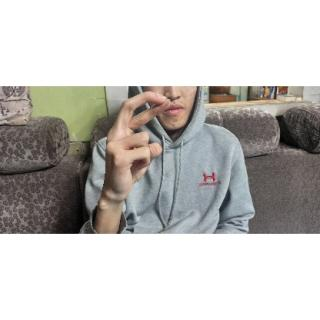ZAY: (95, 90, 173, 206)
